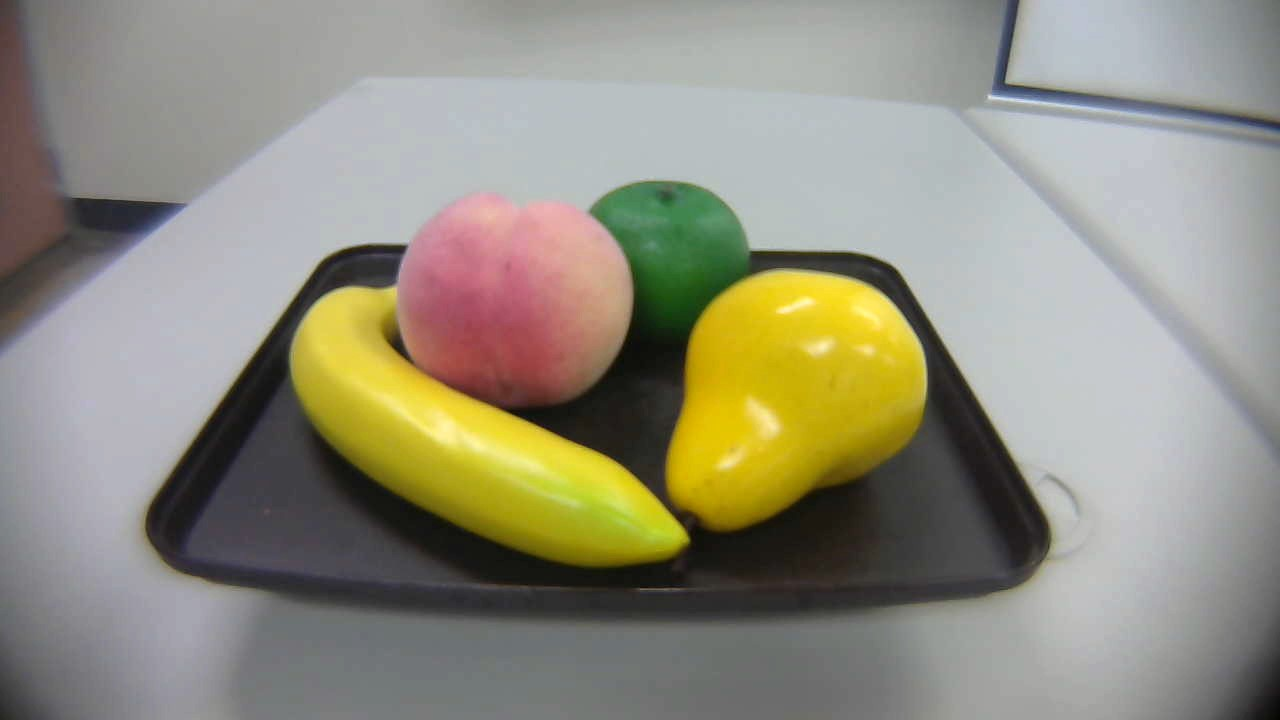banana: (256, 258, 695, 578)
green orange: (581, 163, 759, 334)
peach: (381, 191, 635, 429)
yellow pear: (647, 252, 932, 547)
